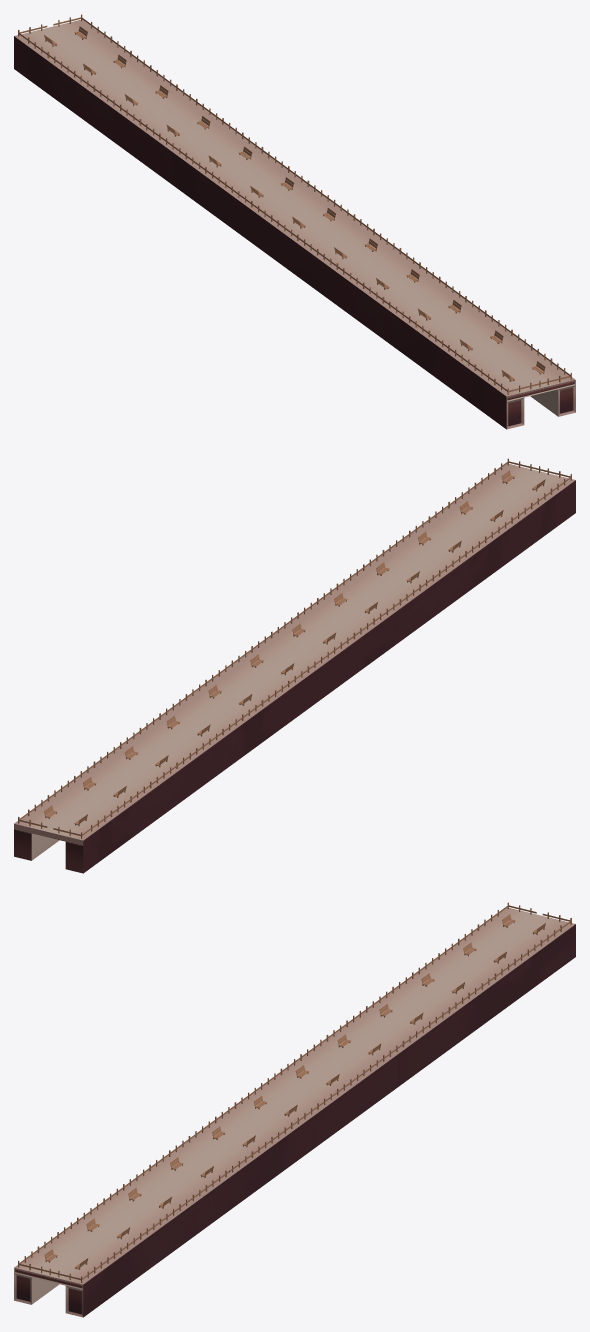
Rendered from arch 1.FBX.
3 views of the same model, one above another, from view 1: azimuth 30°, elevation 25°; view 2: azimuth 150°, elevation 25°; view 3: azimuth 330°, elevation 25° (orthographic).
Parts seen in each view (by area): view 1: Box101; view 2: Box101; view 3: Box101.
Part boxes in pixels (x1,y1,x2,y2): Box101: (14, 14, 575, 429); Box101: (14, 458, 575, 873); Box101: (14, 902, 575, 1317).
Size of the model in its own units: 58.56 by 32.01 by 717.
